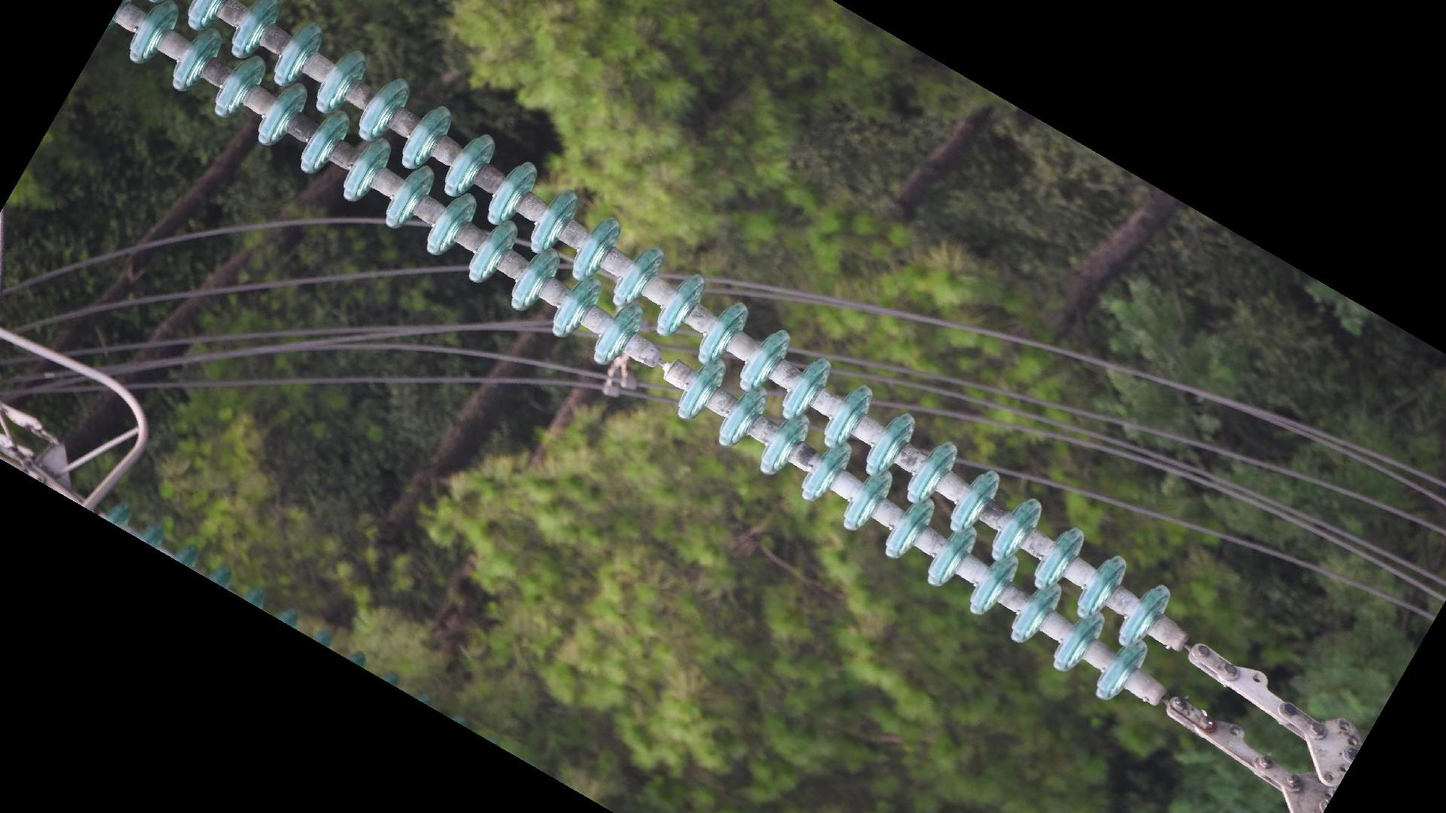insulator: (115, 1, 1180, 706)
insulator_stringdrop: (587, 300, 731, 428)
